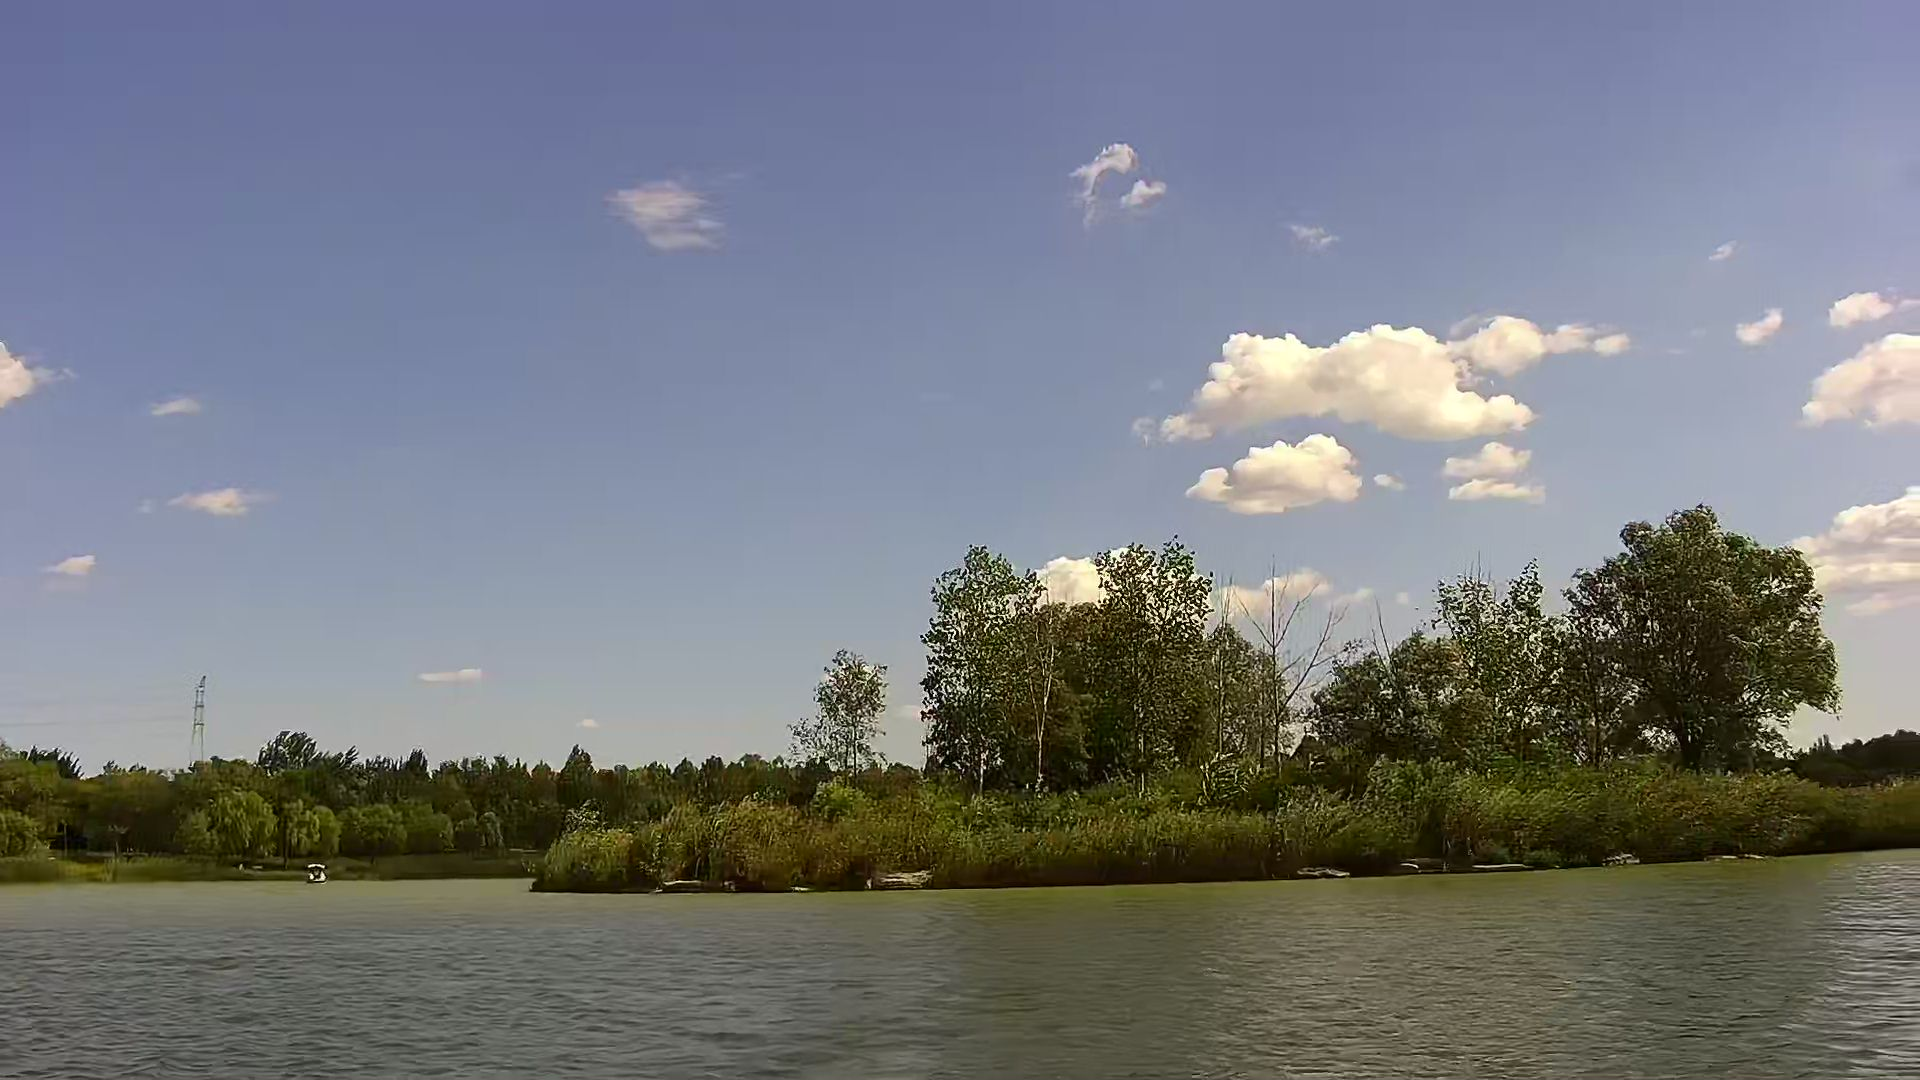rock: (862, 868, 924, 889), (659, 880, 696, 895)
